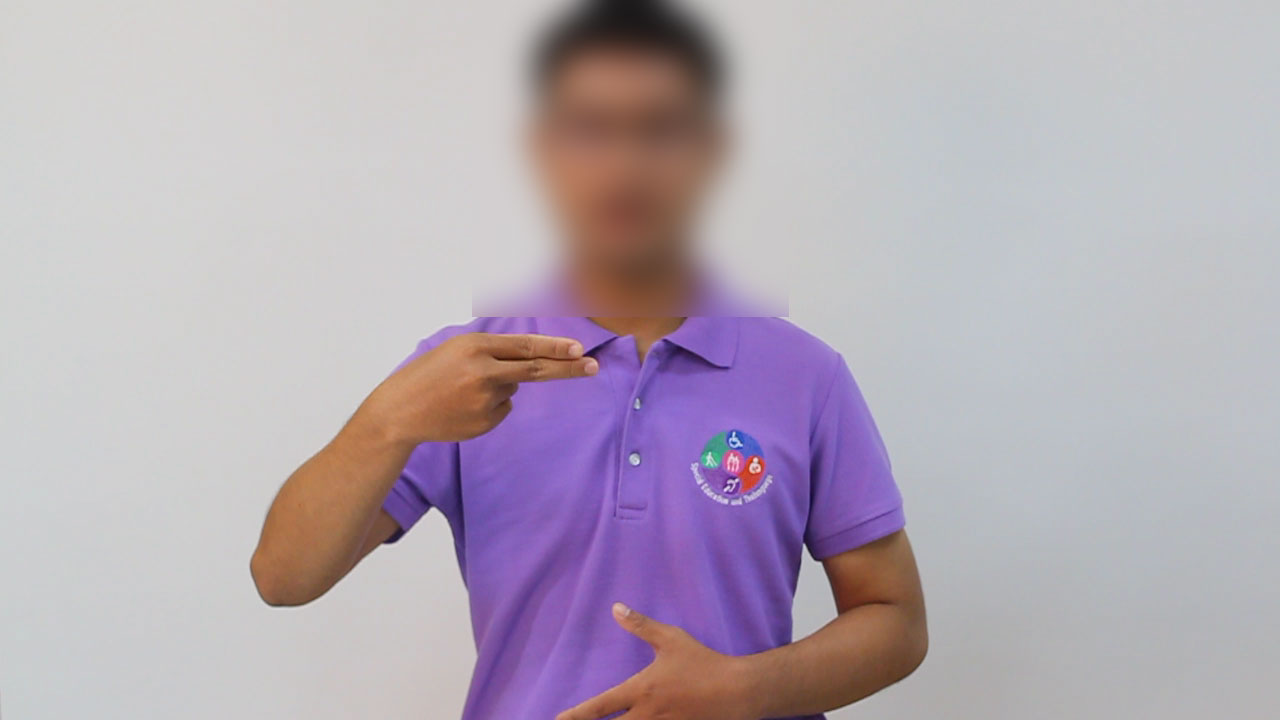hor: (361, 323, 608, 449)
